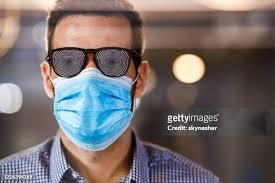mask: (51, 64, 135, 154)
sunglasses: (42, 43, 140, 80)
